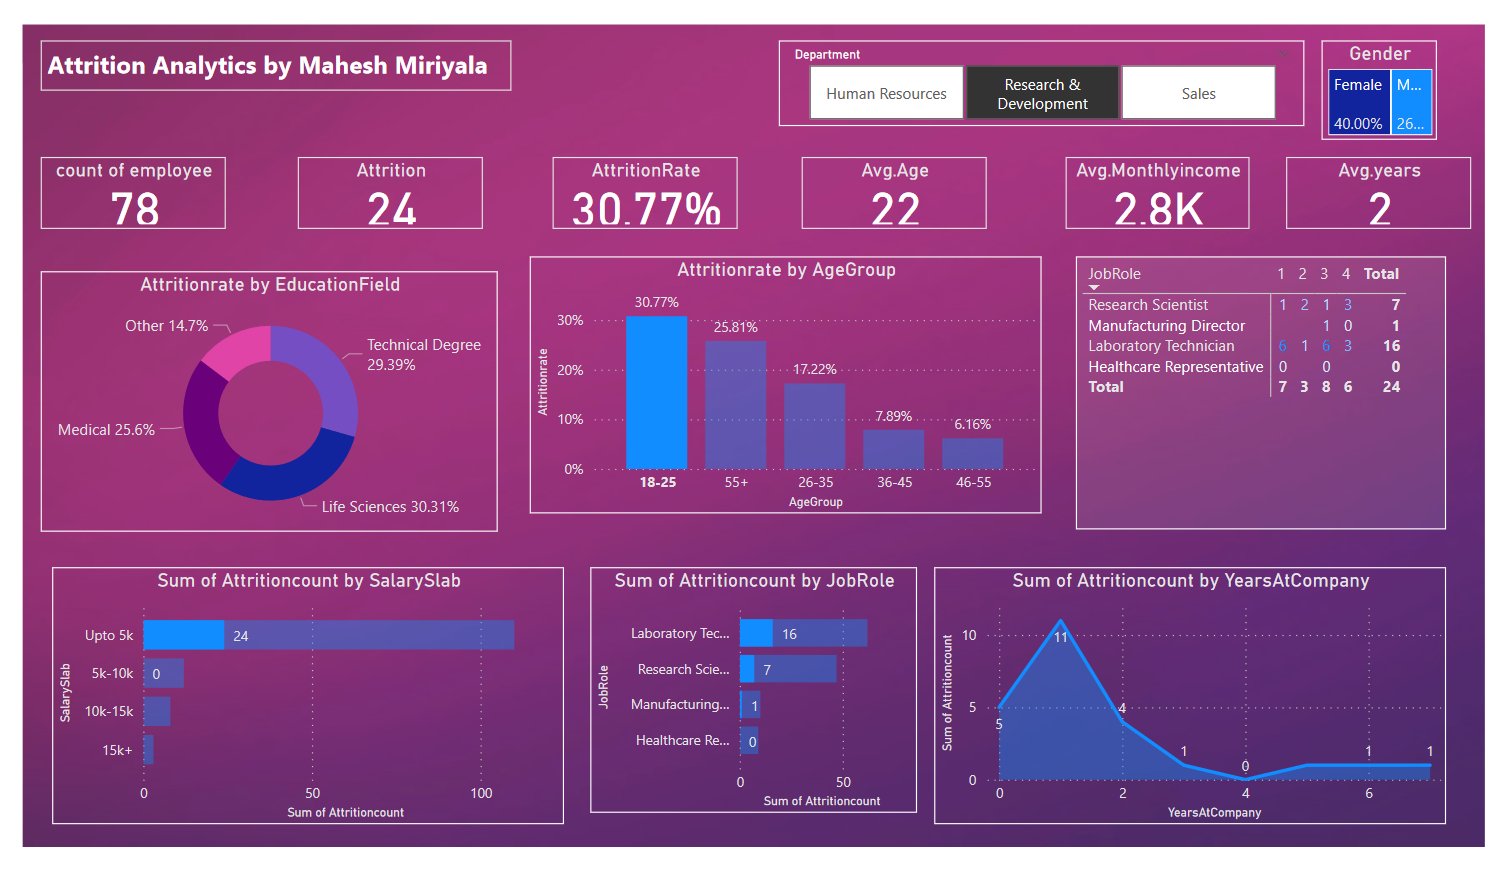

The page's visual inventory and layout, read from the dashboard file:
{"tool":"powerbi","page":{"name":"Page 1","canvas":[1280,720],"ordinal":0},"visuals":[{"type":"card","title":"count of employee","fields":{"Values":["CountNonNull(HR_Analytics.EmpID)"]},"box":[15.9,116,161.8,63.1],"z":0},{"type":"card","title":"Attrition","fields":{"Values":["Sum(HR_Analytics.Attritioncount)"]},"box":[240.8,116,161.8,63.1],"z":1},{"type":"card","title":"AttritionRate","fields":{"Values":["HR_Analytics.Attritionrate"]},"box":[464.2,116,161.8,63.1],"z":2},{"type":"card","title":"Avg.Age","fields":{"Values":["Avg(HR_Analytics.Age)"]},"box":[682.2,116,161.8,63.1],"z":3},{"type":"card","title":"Avg.years","fields":{"Values":["Avg(HR_Analytics.YearsAtCompany)"]},"box":[1105.9,116,161.8,63.1],"z":4},{"type":"card","title":"Avg.Monthlyincome","fields":{"Values":["Avg(HR_Analytics.MonthlyIncome)"]},"box":[912.6,116,161.8,63.1],"z":5},{"type":"donutChart","fields":{"Category":["HR_Analytics.EducationField"],"Y":["HR_Analytics.Attritionrate"]},"box":[15.9,216.1,400.3,227.6],"z":6},{"type":"columnChart","fields":{"Category":["HR_Analytics.AgeGroup"],"Y":["HR_Analytics.Attritionrate"]},"box":[443.9,203.2,448.3,224.9],"z":7},{"type":"pivotTable","fields":{"Rows":["HR_Analytics.JobRole"],"Columns":["HR_Analytics.JobSatisfaction"],"Values":["Sum(HR_Analytics.Attritioncount)"]},"box":[922.4,203.2,323.6,238.6],"z":8},{"type":"barChart","fields":{"Category":["HR_Analytics.SalarySlab"],"Y":["Sum(HR_Analytics.Attritioncount)"]},"box":[25.8,474.7,448.3,224.9],"z":9},{"type":"barChart","fields":{"Y":["Sum(HR_Analytics.Attritioncount)"],"Category":["HR_Analytics.JobRole"]},"box":[497.4,474.7,285.2,215.3],"z":10},{"type":"areaChart","fields":{"Category":["HR_Analytics.YearsAtCompany"],"Y":["Sum(HR_Analytics.Attritioncount)"]},"box":[797.7,474.7,448.3,224.9],"z":11},{"type":"treemap","title":" Gender","fields":{"Group":["HR_Analytics.Gender"],"Values":["HR_Analytics.Attritionrate"]},"box":[1136.6,13.7,101.5,87.7],"z":12},{"type":"slicer","fields":{"Values":["HR_Analytics.Department"]},"box":[662.2,13.7,459.3,75.4],"z":13},{"type":"textbox","box":[16.5,13.7,411.3,43.9],"z":14}]}

Visuals, with their boxes in screenshot pixels (x1, y1, x2, y2), scaled from the page's 1280x720 canvas onto the 1506x872 screenshot:
"count of employee" card: [19, 140, 209, 217]
"Attrition" card: [283, 140, 474, 217]
"AttritionRate" card: [546, 140, 737, 217]
"Avg.Age" card: [803, 140, 993, 217]
"Avg.years" card: [1301, 140, 1492, 217]
"Avg.Monthlyincome" card: [1074, 140, 1264, 217]
donutChart - HR_Analytics.EducationField x HR_Analytics.Attritionrate: [19, 262, 490, 537]
columnChart - HR_Analytics.AgeGroup x HR_Analytics.Attritionrate: [522, 246, 1050, 518]
pivotTable - HR_Analytics.JobRole x HR_Analytics.JobSatisfaction: [1085, 246, 1466, 535]
barChart - HR_Analytics.SalarySlab x Sum(HR_Analytics.Attritioncount): [30, 575, 558, 847]
barChart - Sum(HR_Analytics.Attritioncount) x HR_Analytics.JobRole: [585, 575, 921, 836]
areaChart - HR_Analytics.YearsAtCompany x Sum(HR_Analytics.Attritioncount): [939, 575, 1466, 847]
" Gender" treemap: [1337, 17, 1457, 123]
slicer - HR_Analytics.Department: [779, 17, 1320, 108]
textbox: [19, 17, 503, 70]
